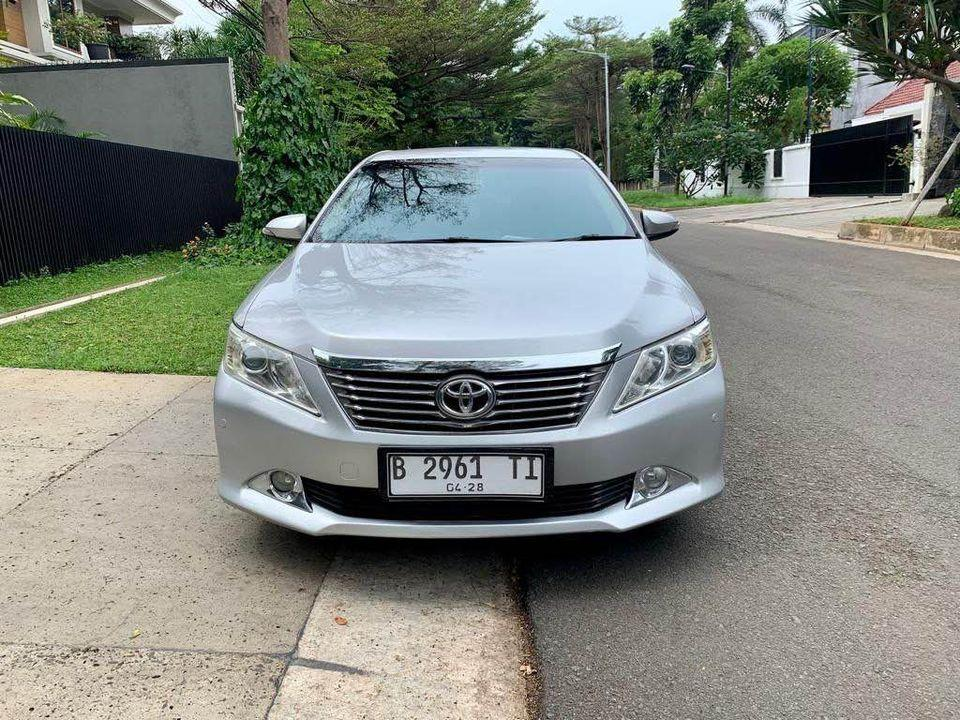plat nomor: (380, 437, 555, 525)
